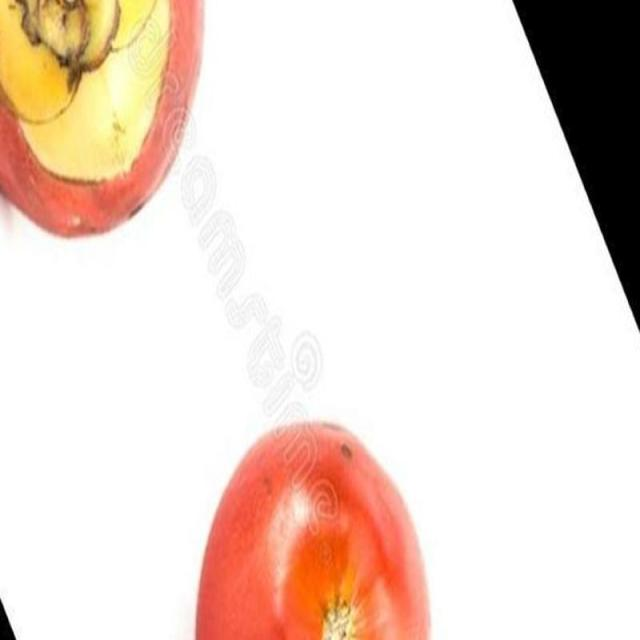good: (192, 420, 432, 639)
